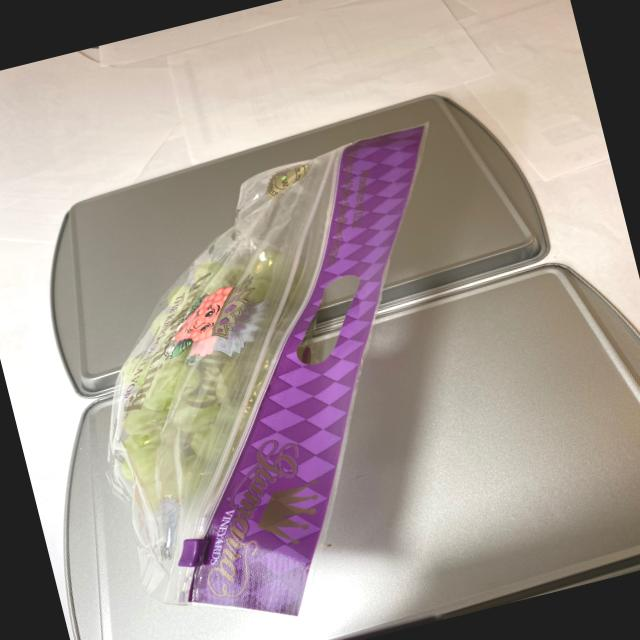grapes: (58, 214, 340, 526)
